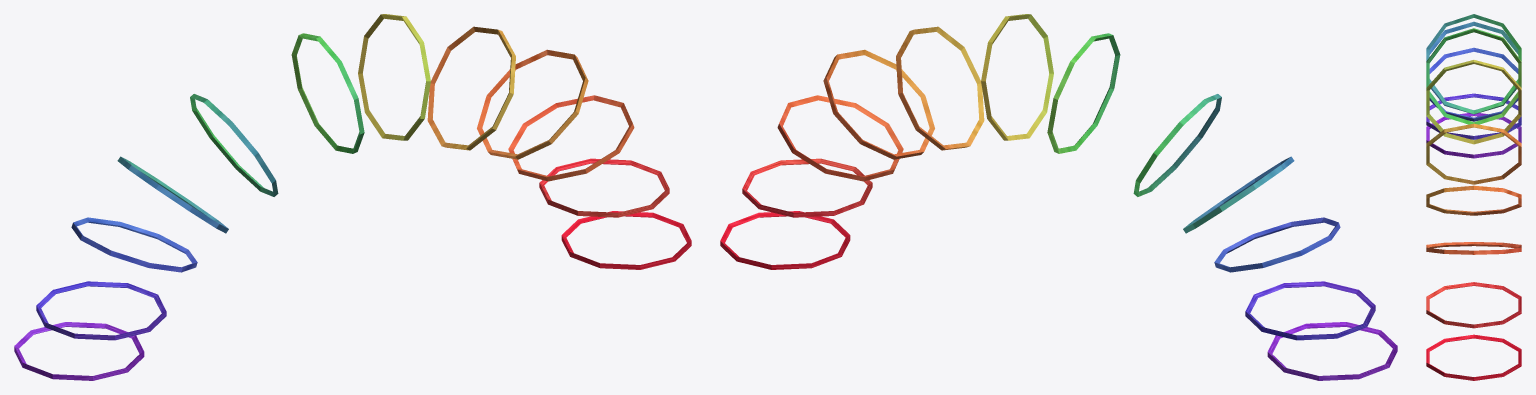
The model's file is resorte.obj.
3 views of the same model, side by side, from view 1: azimuth 30°, elevation 25°; view 2: azimuth 150°, elevation 25°; view 3: azimuth 270°, elevation 25° (orthographic). The views are drawn at different scales.
Visible parts, largest first — view 1: pTorus5, pTorus3, pTorus6, pTorus4, pTorus11, pTorus7, pTorus10, pTorus2, pTorus12, pTorus8, pTorus1, pTorus9; view 2: pTorus5, pTorus3, pTorus6, pTorus4, pTorus11, pTorus7, pTorus10, pTorus2, pTorus12, pTorus8, pTorus1, pTorus9; view 3: pTorus6, pTorus7, pTorus5, pTorus8, pTorus2, pTorus1, pTorus3, pTorus4, pTorus10, pTorus12, pTorus11, pTorus9.
Boxes of the visible parts, x1,y1,x2,y2 form: pTorus5: (427, 26, 515, 150); pTorus3: (477, 49, 588, 159); pTorus6: (358, 14, 430, 140); pTorus4: (508, 95, 634, 181); pTorus11: (36, 281, 166, 340); pTorus7: (291, 33, 364, 153); pTorus10: (71, 217, 197, 272); pTorus2: (539, 158, 669, 217); pTorus12: (14, 322, 144, 380); pTorus8: (190, 94, 278, 196); pTorus1: (561, 211, 691, 269); pTorus9: (117, 156, 228, 233); pTorus5: (896, 26, 984, 150); pTorus3: (823, 49, 934, 159); pTorus6: (981, 14, 1053, 140); pTorus4: (777, 95, 903, 181); pTorus11: (1245, 281, 1375, 340); pTorus7: (1047, 33, 1120, 153); pTorus10: (1214, 217, 1340, 272); pTorus2: (742, 158, 872, 217); pTorus12: (1267, 322, 1397, 380); pTorus8: (1133, 94, 1221, 196); pTorus1: (720, 211, 850, 269); pTorus9: (1183, 156, 1294, 233); pTorus6: (1426, 60, 1521, 144); pTorus7: (1426, 28, 1521, 124); pTorus5: (1426, 123, 1521, 184); pTorus8: (1426, 14, 1521, 114); pTorus2: (1426, 282, 1521, 328); pTorus1: (1426, 334, 1521, 380); pTorus3: (1426, 185, 1521, 215); pTorus4: (1426, 242, 1521, 254); pTorus10: (1429, 47, 1518, 121); pTorus12: (1426, 113, 1521, 158); pTorus11: (1426, 93, 1521, 139); pTorus9: (1429, 21, 1518, 113).
Bounding box in the file's own units: 0.1195 × 0.0486 × 0.0195.
1 material, 1 textured.
